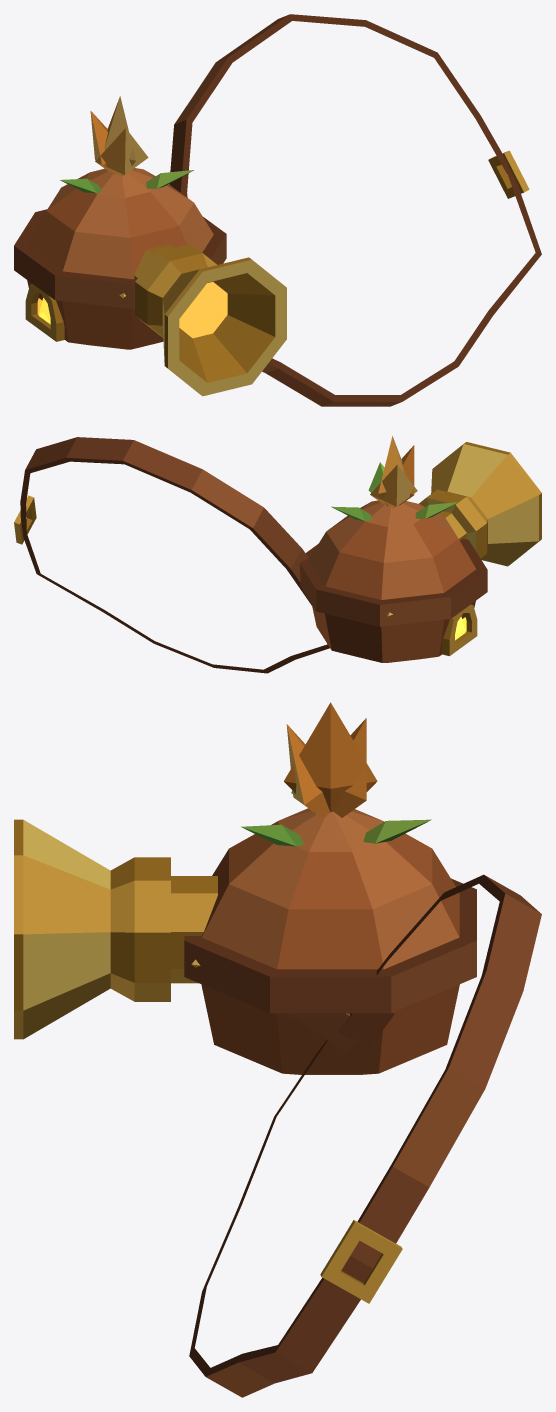
Rendered from fire_spitter_thistle.glb.
3 views of the same model, one above another, from view 1: azimuth 30°, elevation 25°; view 2: azimuth 150°, elevation 25°; view 3: azimuth 270°, elevation 25° (orthographic). The views are drawn at different scales.
Parts seen in each view (by area): view 1: fire_unit, fire_spitter; view 2: fire_unit, fire_spitter; view 3: fire_unit, fire_spitter.
Boxes of the visible parts, x1,y1,x2,y2 form: fire_unit: (14,96,286,396); fire_spitter: (169,14,541,406); fire_unit: (299,436,541,662); fire_spitter: (14,437,329,673); fire_unit: (14,702,476,1074); fire_spitter: (189,874,541,1397).
Size of the model in its own units: 0.9697 by 0.6448 by 0.61.
